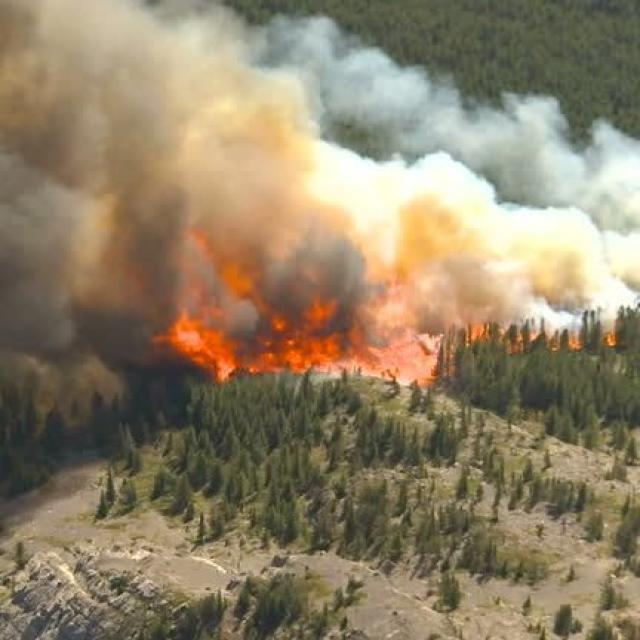Fire: (168, 304, 404, 386), (376, 326, 439, 388), (513, 330, 634, 354), (454, 316, 486, 356)
Smoke: (0, 0, 621, 349)
